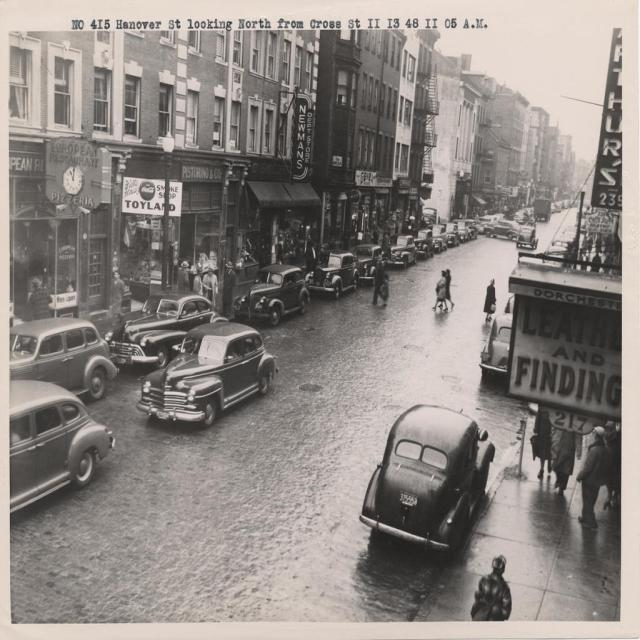car: (359, 403, 496, 547), (126, 306, 268, 437)
